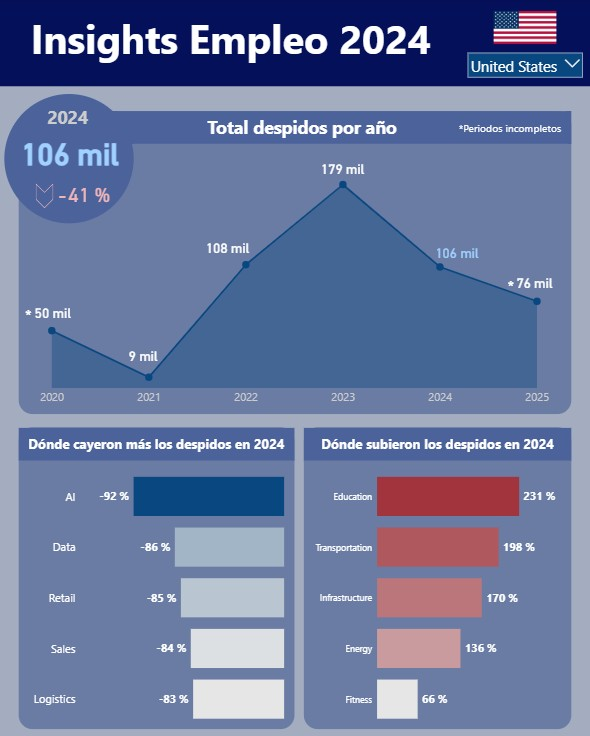

This screenshot's page, from the dashboard's own definition file:
{"tool":"powerbi","page":{"name":"Página 1","canvas":[1080,1350],"ordinal":0},"visuals":[{"type":"lineChart","fields":{"Category":["D_Fechas.Fecha Jerarquía.Año"],"Y":["_medidas.despidos"]},"box":[72.4,319,932,429.8],"z":0},{"type":"card","fields":{"Values":["_medidas.despidos_2020"]},"box":[54.3,551.9,92.7,38.5],"z":1000},{"type":"card","fields":{"Values":["_medidas.despidos_2021"]},"box":[214.9,631.1,99.5,36.2],"z":2000},{"type":"card","fields":{"Values":["_medidas.despidos_2022"]},"box":[366.5,432.1,101.8,45.2],"z":3000},{"type":"card","fields":{"Values":["_medidas.despidos_2023"]},"box":[563.3,285,124.4,52],"z":4000},{"type":"card","fields":{"Values":["_medidas.despidos_2024"]},"box":[778.2,441.1,108.6,43],"z":5000},{"type":"card","fields":{"Values":["_medidas.despidos_2025"]},"box":[920.7,493.1,104.1,49.8],"z":6000},{"type":"clusteredBarChart","fields":{"Category":["h_layoffs.industry"],"Y":["_medidas.%Variacion_2023_2024"]},"box":[54.3,818.9,470.5,531.6],"z":7000},{"type":"card","fields":{"Values":["_medidas.despidos_2024"]},"box":[29.4,219.4,205.8,117.6],"z":8000},{"type":"card","fields":{"Values":["_medidas.%Variacion_2023_2024"]},"box":[95,321.2,124.4,67.9],"z":9000},{"type":"clusteredBarChart","fields":{"Category":["h_layoffs.industry"],"Y":["_medidas.%Variacion_2023_2024"]},"box":[561,818.9,466,531.6],"z":10000},{"type":"slicer","fields":{"Values":["h_layoffs.country"]},"box":[841.5,90.5,228.5,61.1],"z":11000},{"type":"textbox","box":[237.5,208.1,628.9,61.1],"z":12000},{"type":"textbox","box":[15.8,787.2,545.2,61.1],"z":13000},{"type":"textbox","box":[524.8,787.2,545.2,61.1],"z":14000},{"type":"textbox","box":[22.6,554.2,67.9,54.3],"z":15000},{"type":"textbox","box":[895.8,502.2,67.9,54.3],"z":16000},{"type":"textbox","box":[816.6,219.4,223.9,54.3],"z":17000},{"type":"textbox","box":[31.7,190,192.3,72.4],"z":18000},{"type":"shape","box":[70.1,337,31.7,45.2],"z":19000},{"type":"textbox","box":[13.6,20.4,818.9,171.9],"z":19001},{"type":"image","box":[886.7,20.4,138,70.1],"z":19002}]}

Visuals, with their boxes in screenshot pixels (x1, y1, x2, y2), scaled from the page's 1080x1350 canvas onto the 590x736 screenshot:
lineChart - D_Fechas.Fecha Jerarquía.Año x _medidas.despidos: (x1=40, y1=174, x2=549, y2=408)
card - _medidas.despidos_2020: (x1=30, y1=301, x2=80, y2=322)
card - _medidas.despidos_2021: (x1=117, y1=344, x2=172, y2=364)
card - _medidas.despidos_2022: (x1=200, y1=236, x2=256, y2=260)
card - _medidas.despidos_2023: (x1=308, y1=155, x2=376, y2=184)
card - _medidas.despidos_2024: (x1=425, y1=240, x2=484, y2=264)
card - _medidas.despidos_2025: (x1=503, y1=269, x2=560, y2=296)
clusteredBarChart - h_layoffs.industry x _medidas.%Variacion_2023_2024: (x1=30, y1=446, x2=287, y2=735)
card - _medidas.despidos_2024: (x1=16, y1=120, x2=128, y2=184)
card - _medidas.%Variacion_2023_2024: (x1=52, y1=175, x2=120, y2=212)
clusteredBarChart - h_layoffs.industry x _medidas.%Variacion_2023_2024: (x1=306, y1=446, x2=561, y2=735)
slicer - h_layoffs.country: (x1=460, y1=49, x2=585, y2=83)
textbox: (x1=130, y1=113, x2=473, y2=147)
textbox: (x1=9, y1=429, x2=306, y2=462)
textbox: (x1=287, y1=429, x2=585, y2=462)
textbox: (x1=12, y1=302, x2=49, y2=332)
textbox: (x1=489, y1=274, x2=526, y2=303)
textbox: (x1=446, y1=120, x2=568, y2=149)
textbox: (x1=17, y1=104, x2=122, y2=143)
shape: (x1=38, y1=184, x2=56, y2=208)
textbox: (x1=7, y1=11, x2=455, y2=105)
image: (x1=484, y1=11, x2=560, y2=49)
